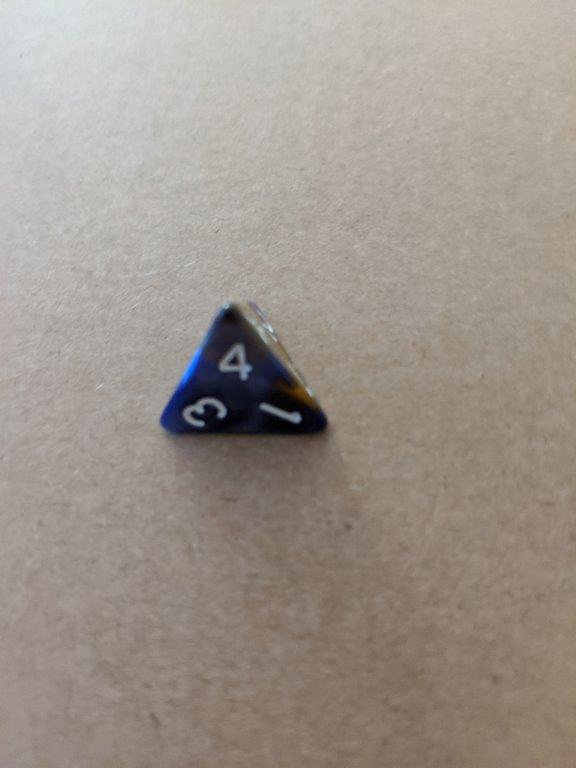d4-4: (157, 297, 332, 445)
